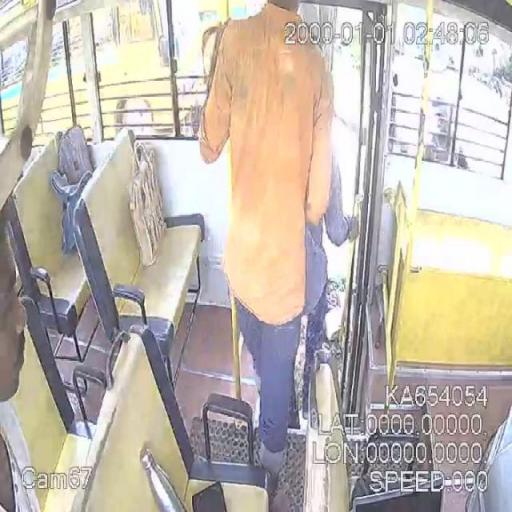persona: (196, 2, 336, 480), (302, 152, 356, 415), (0, 210, 38, 512)
